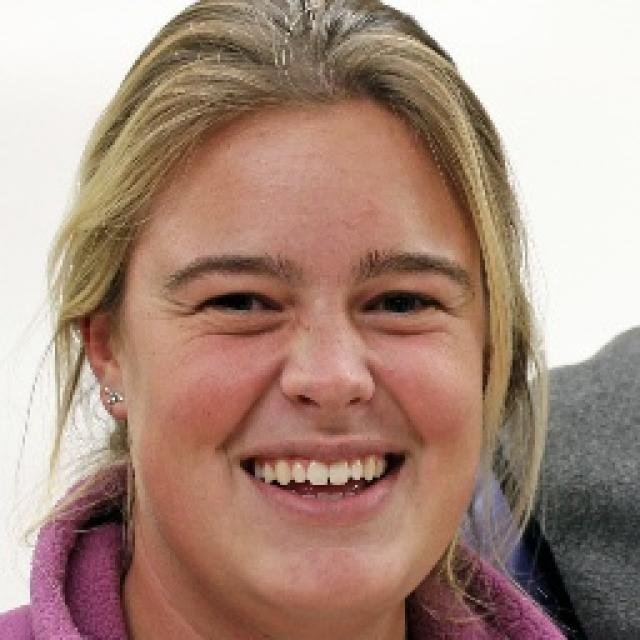earlobe: (70, 270, 132, 422)
